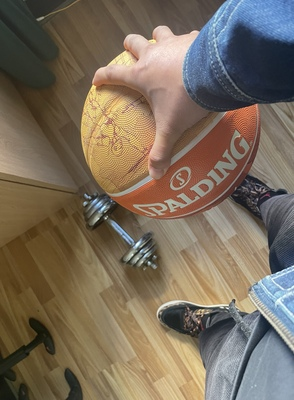ball: (80, 36, 262, 220)
